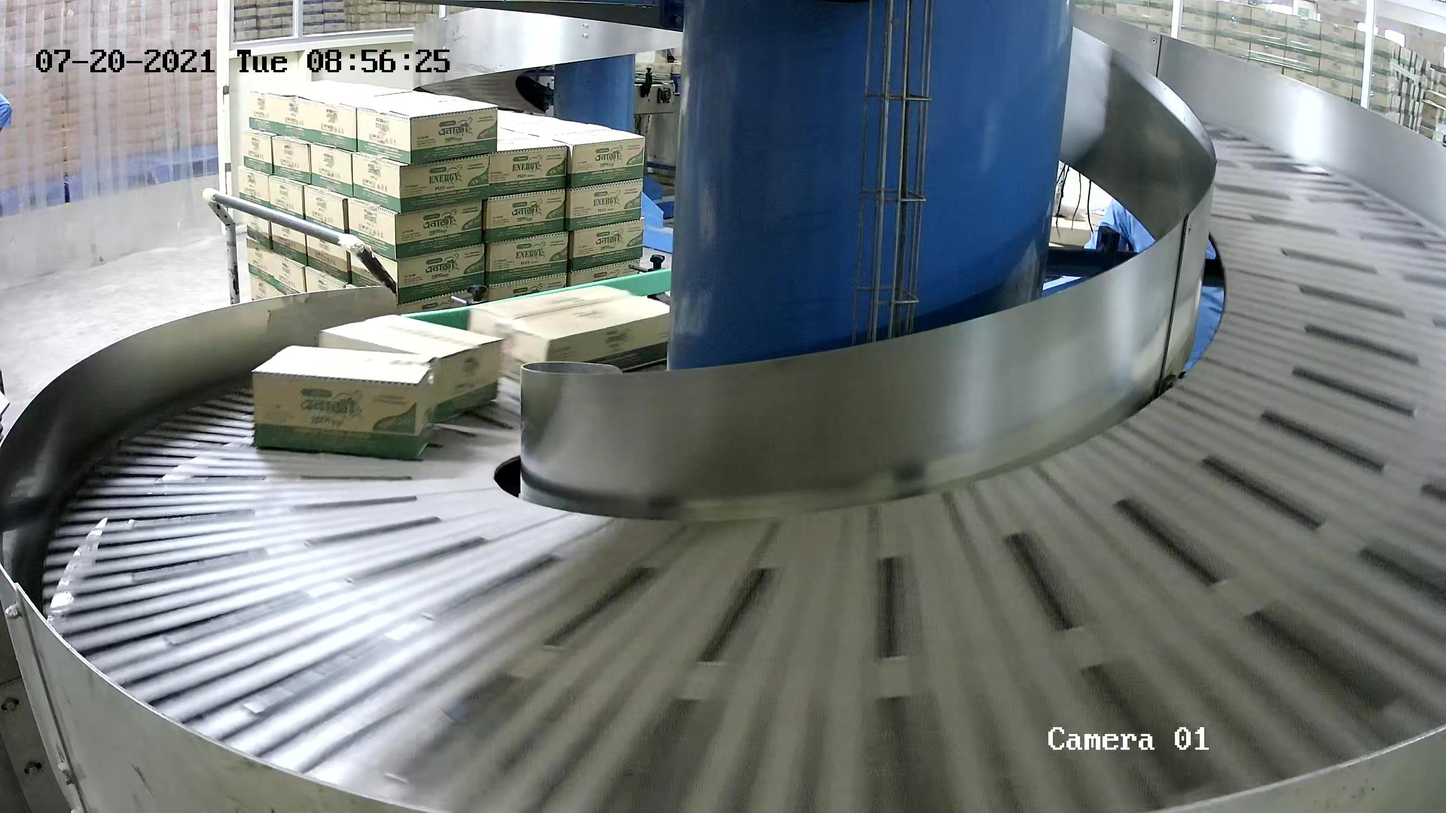Box: (251, 343, 439, 462), (317, 312, 506, 424), (467, 283, 670, 384)
